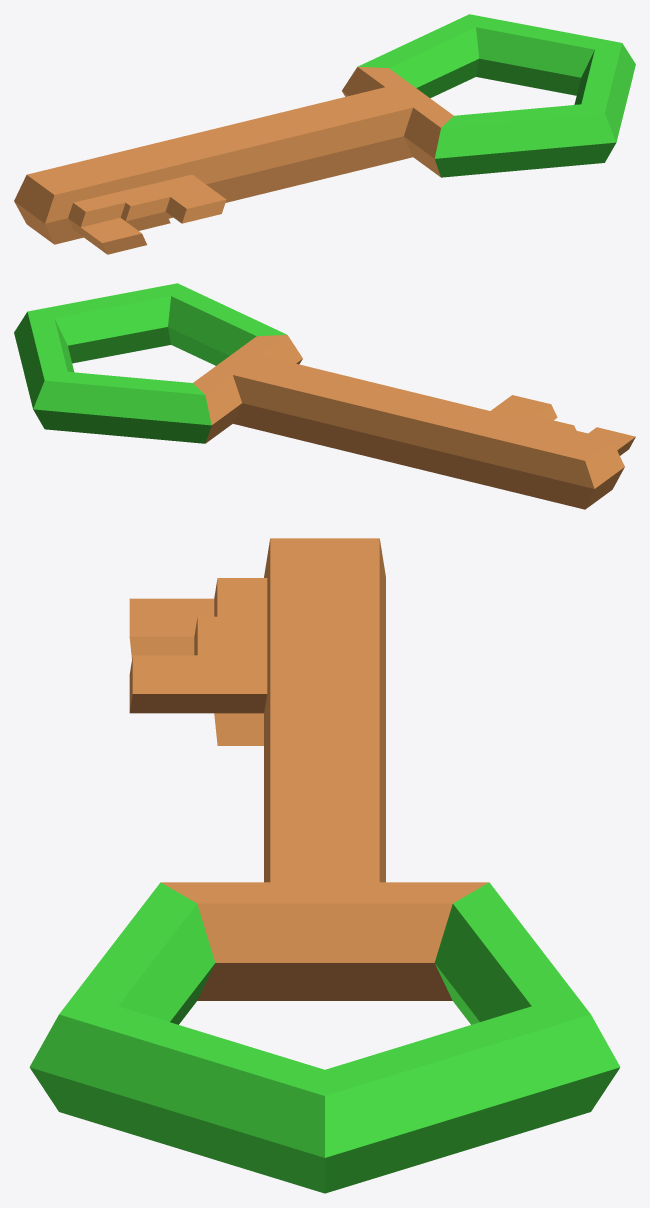
File: Green_Key.fbx
3 renders of one model, top to bottom at view 1: azimuth 30°, elevation 25°; view 2: azimuth 150°, elevation 25°; view 3: azimuth 270°, elevation 25°, orthographic. The views are drawn at different scales.
Parts seen in each view (by area): view 1: Key; view 2: Key; view 3: Key.
Part boxes in pixels (bbox=[...]): Key: bbox=[14, 14, 635, 254]; Key: bbox=[14, 283, 635, 509]; Key: bbox=[29, 538, 620, 1193].
Size of the model in its own units: 31.49 by 2.46 by 13.53.
